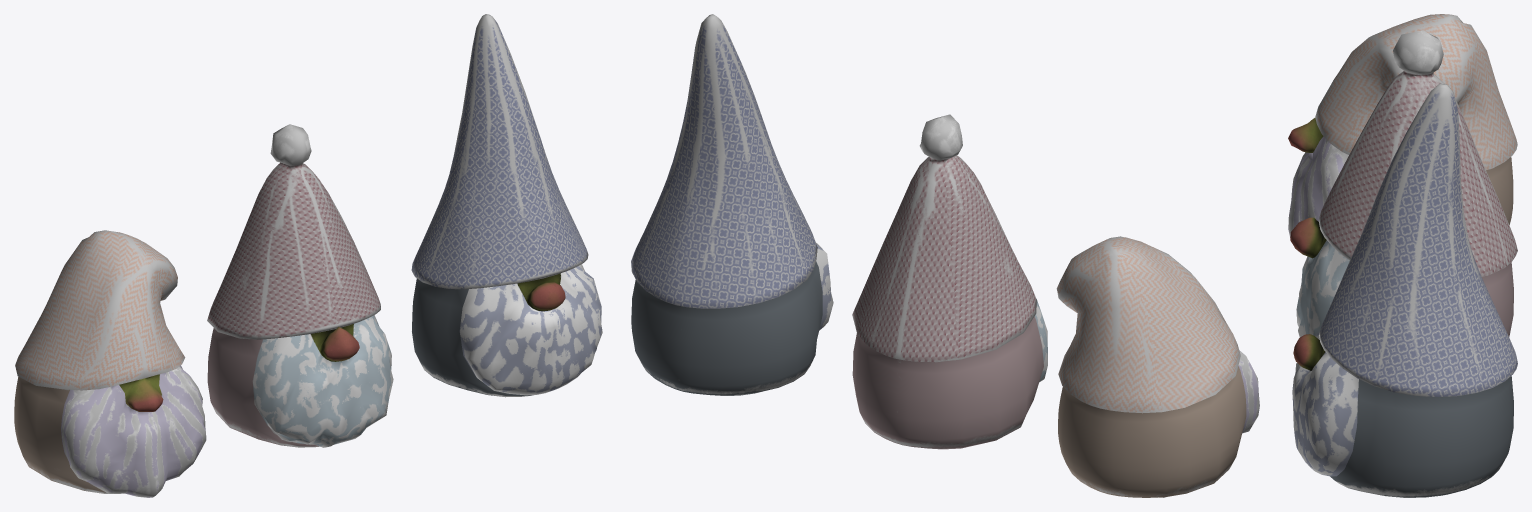
Rendered from KindledSpirits-Snowfolk.fbx.
3 views of the same model, side by side, from view 1: azimuth 30°, elevation 25°; view 2: azimuth 150°, elevation 25°; view 3: azimuth 270°, elevation 25° (orthographic). The views are drawn at different scales.
Visible parts, largest first — view 1: SnowFolk03-LOD0, SnowFolk02-LOD0, SnowFolk01-LOD0; view 2: SnowFolk03-LOD0, SnowFolk02-LOD0, SnowFolk01-LOD0; view 3: SnowFolk03-LOD0, SnowFolk02-LOD0, SnowFolk01-LOD0.
Part boxes in pixels (x1,y1,x2,y2): SnowFolk03-LOD0: (411, 14, 602, 397); SnowFolk02-LOD0: (207, 124, 393, 447); SnowFolk01-LOD0: (14, 230, 206, 497); SnowFolk03-LOD0: (631, 14, 833, 395); SnowFolk02-LOD0: (852, 114, 1047, 449); SnowFolk01-LOD0: (1056, 236, 1259, 497); SnowFolk03-LOD0: (1292, 83, 1517, 497); SnowFolk02-LOD0: (1290, 30, 1517, 337); SnowFolk01-LOD0: (1288, 14, 1517, 237).
Size of what is drawn, in the model's own units: 606 by 361 by 195.
